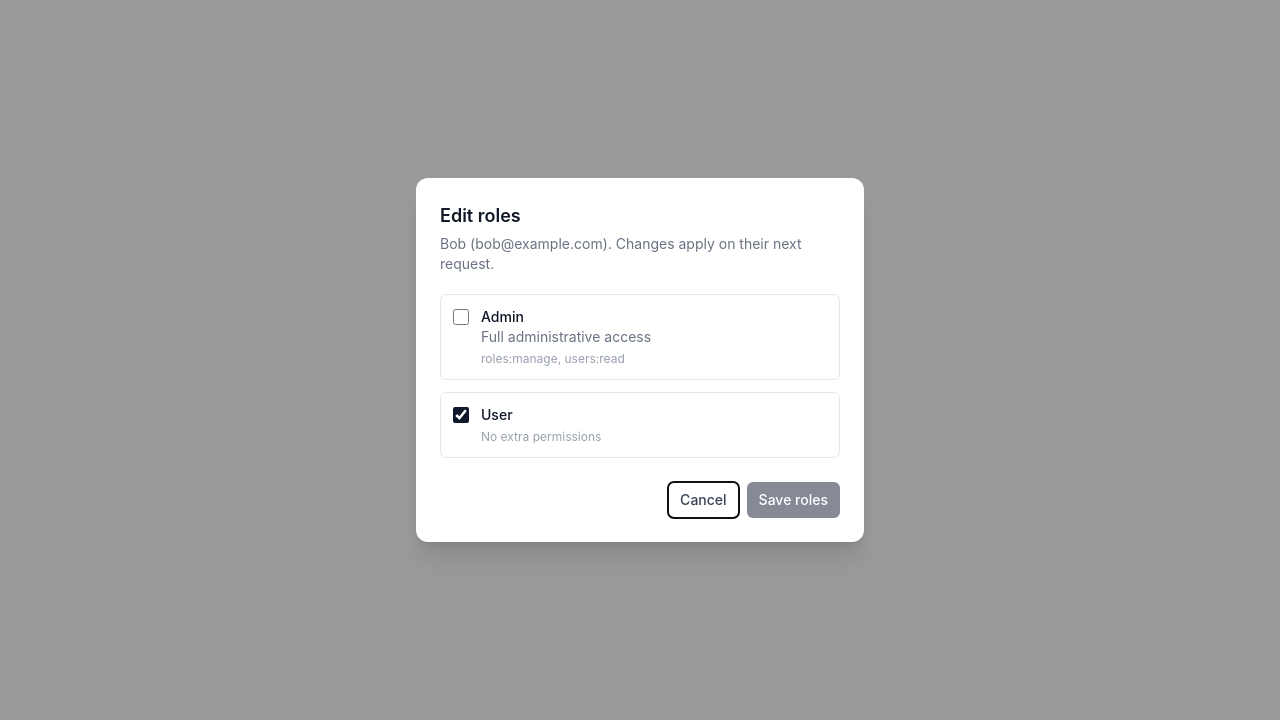
Test: EditRolesDialog › keeps Save disabled until something changes, and blocks removing every role
The width and height of the screenshot is (1280, 720).
Expected: the button "Save roles" is disabled, [747,482,840,518]
Step 1. Click the checkbox labelled "user No extra permissions" → [461, 415], box [453,407,469,423]
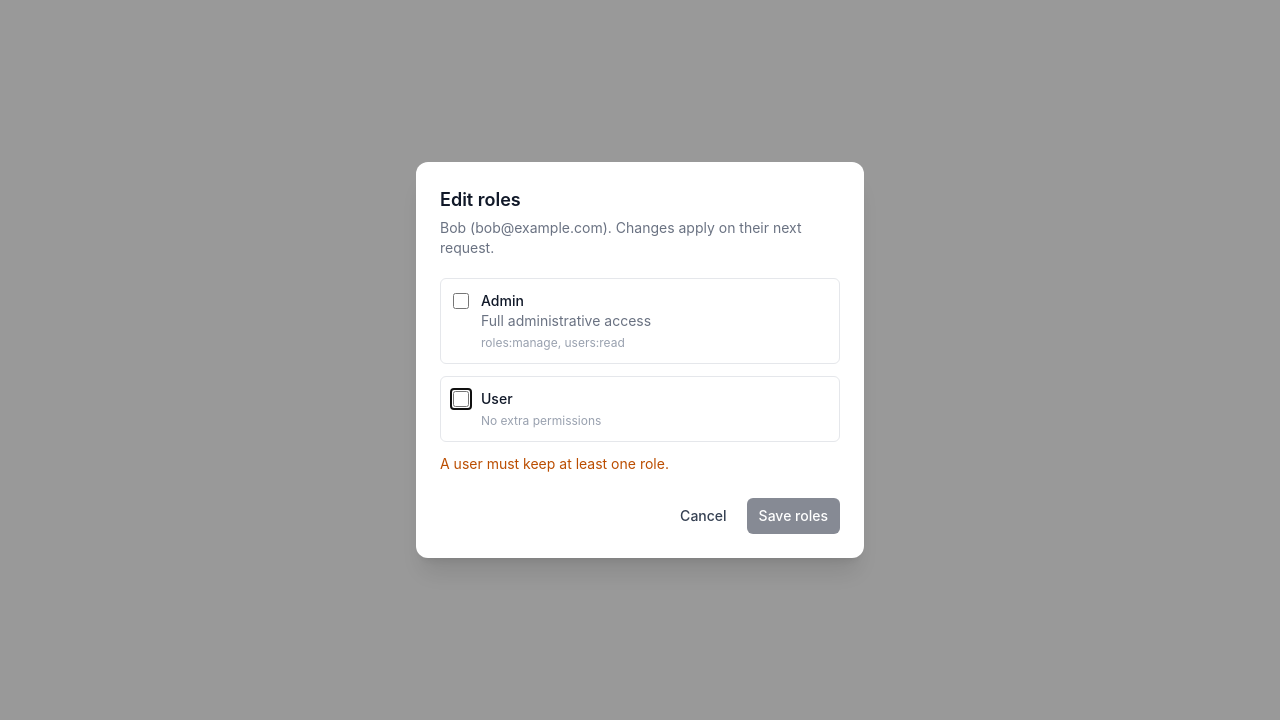
Expected: the button "Save roles" is disabled, [747,498,840,534]
Expected: the text "A user must keep at least one role." is shown, [440,455,669,472]
